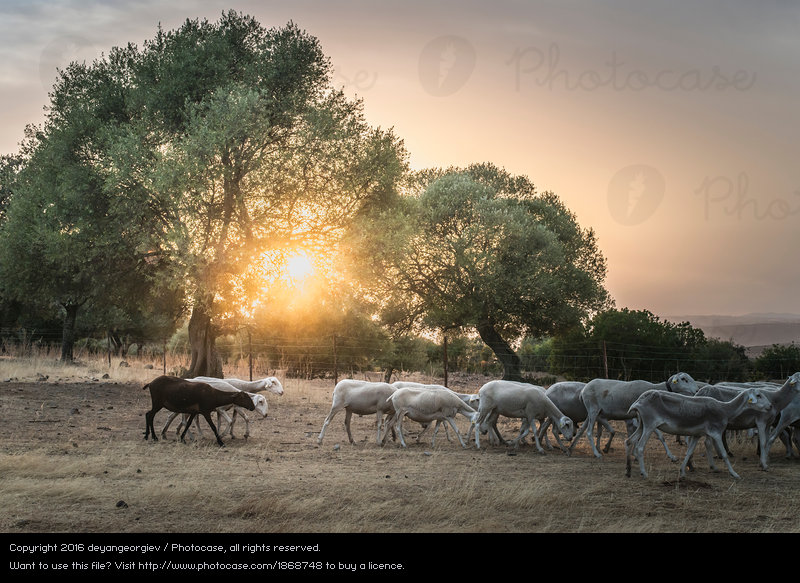sheep: (623, 386, 776, 479), (137, 373, 257, 449), (580, 371, 704, 440), (473, 376, 577, 455), (384, 385, 477, 448), (234, 375, 288, 425)
